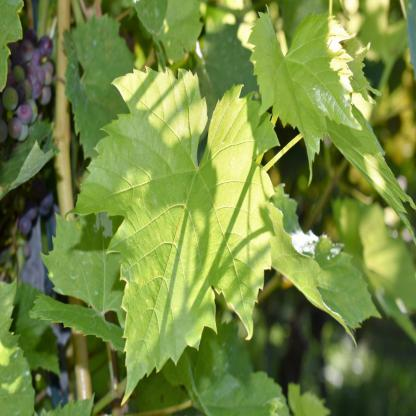grape leaf: (66, 63, 285, 415), (261, 177, 390, 349), (245, 4, 353, 174)
